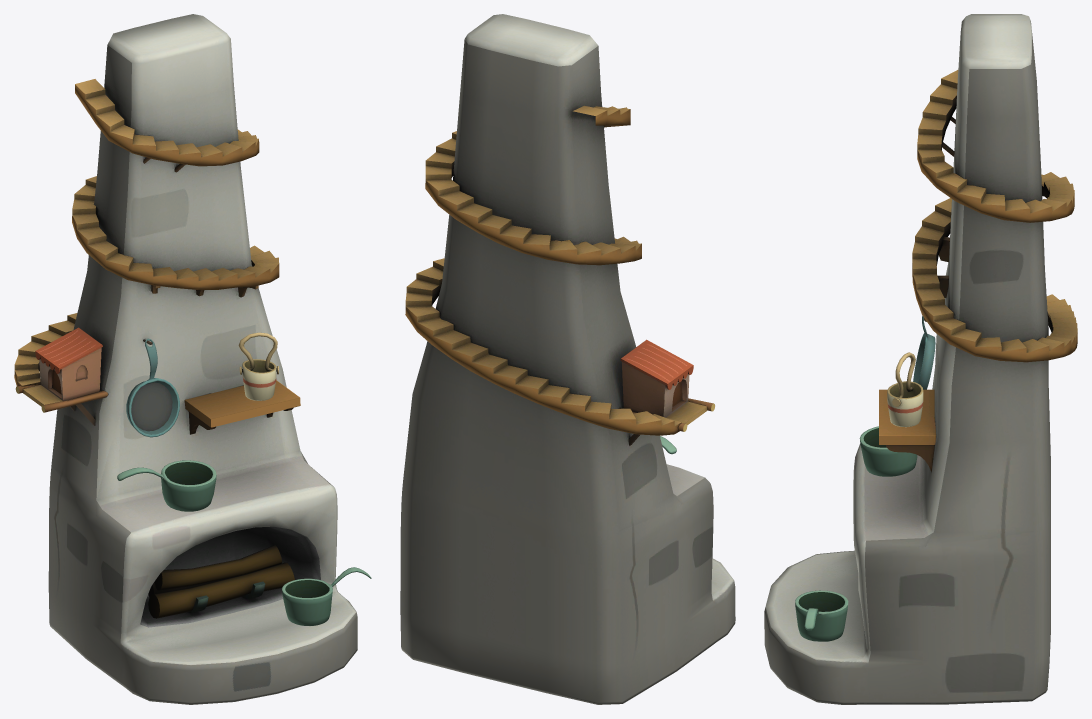
File: furnace.glb
The picture shows the model from 3 angles, left to right: view 1: azimuth 30°, elevation 25°; view 2: azimuth 150°, elevation 25°; view 3: azimuth 270°, elevation 25°; orthographic projection. The views are drawn at different scales.
Visible parts, largest first — view 1: fc_furnace.smd, f_firewood.smd, f_pan.smd, f_sauce_pan_1.smd, f_sauce_pan_2.smd, f_pale.smd; view 2: fc_furnace.smd; view 3: fc_furnace.smd, f_sauce_pan_2.smd, f_pale.smd, f_sauce_pan_1.smd, f_pan.smd.
Boxes of the visible parts, bbox=[...] form: fc_furnace.smd: bbox=[14, 14, 357, 704]; f_firewood.smd: bbox=[148, 545, 294, 618]; f_pan.smd: bbox=[126, 338, 179, 437]; f_sauce_pan_1.smd: bbox=[117, 460, 216, 511]; f_sauce_pan_2.smd: bbox=[282, 567, 371, 625]; f_pale.smd: bbox=[238, 332, 278, 400]; fc_furnace.smd: bbox=[400, 14, 735, 704]; fc_furnace.smd: bbox=[764, 14, 1077, 704]; f_sauce_pan_2.smd: bbox=[795, 590, 848, 641]; f_pale.smd: bbox=[887, 352, 923, 427]; f_sauce_pan_1.smd: bbox=[859, 426, 917, 476]; f_pan.smd: bbox=[913, 315, 935, 389].
Bounding box in the file's own units: 1.55 × 3.29 × 1.53.
6 materials, 6 textured.
